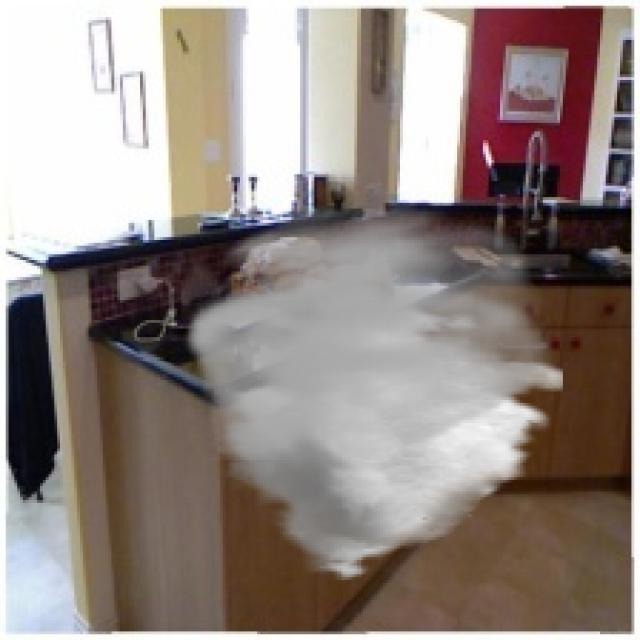Smoke: (180, 203, 563, 583)
